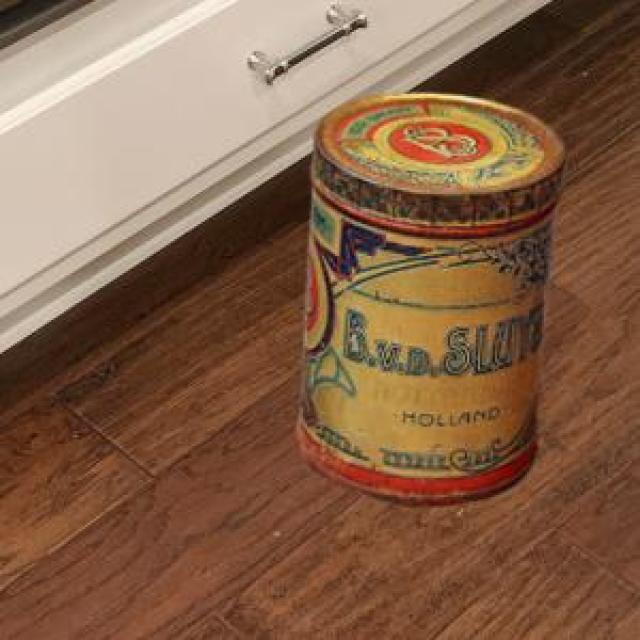Can: (293, 91, 562, 502)
